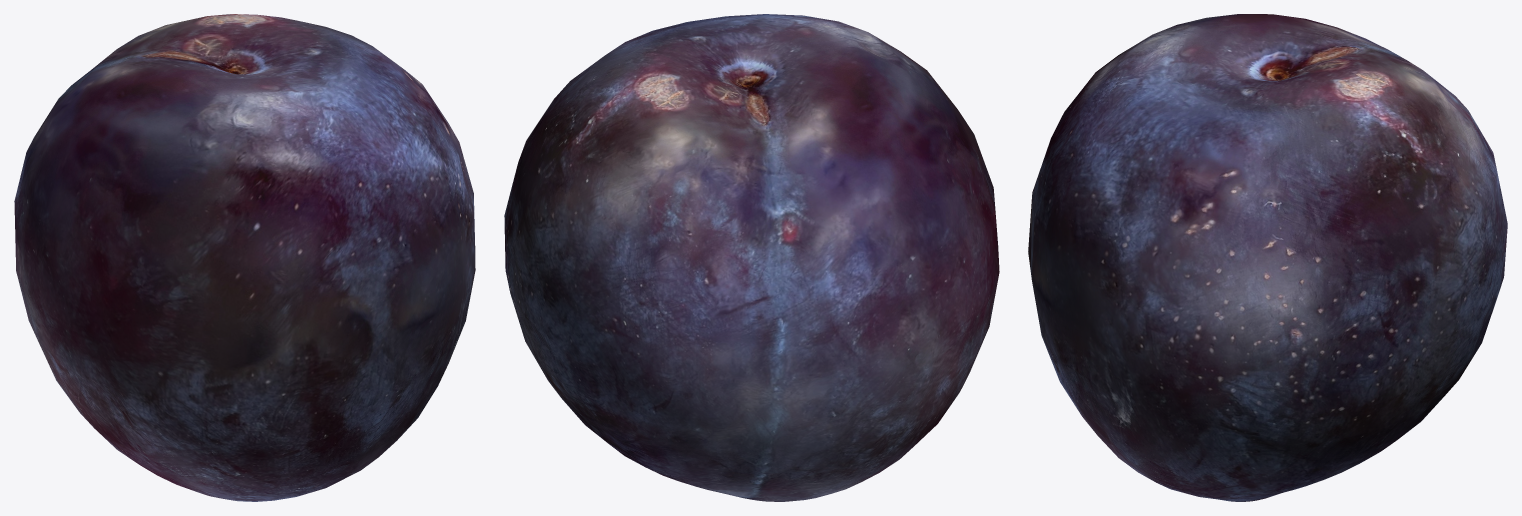
Rendered from plum.glb.
3 renders of one model, left to right at view 1: azimuth 30°, elevation 25°; view 2: azimuth 150°, elevation 25°; view 3: azimuth 270°, elevation 25°, orthographic. The views are drawn at different scales.
Visible parts, largest first — view 1: Object_2; view 2: Object_2; view 3: Object_2.
Boxes of the visible parts, bbox=[...] form: Object_2: bbox=[14, 14, 475, 501]; Object_2: bbox=[504, 14, 999, 501]; Object_2: bbox=[1028, 14, 1507, 501].
Size of the model in its own units: 1.8 by 1.83 by 1.82.
Materials: 1 (1 with a texture image).
